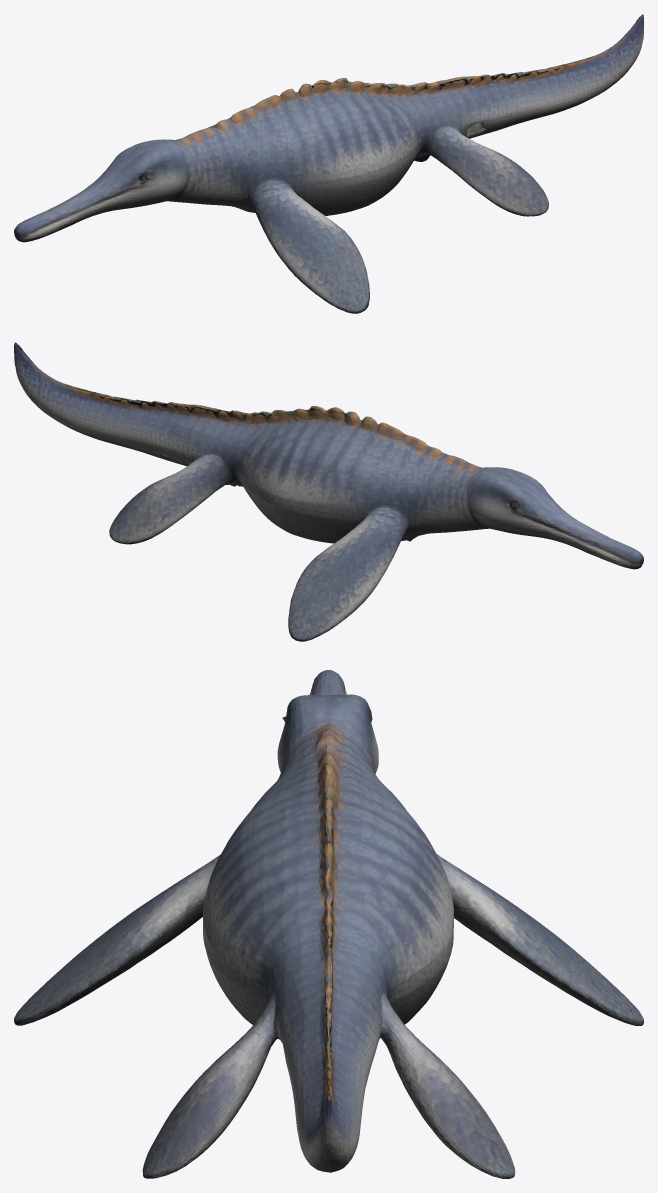
3 renders of one model, top to bottom at view 1: azimuth 30°, elevation 25°; view 2: azimuth 150°, elevation 25°; view 3: azimuth 270°, elevation 25°, orthographic. The views are drawn at different scales.
Parts seen in each view (by area): view 1: world; view 2: world; view 3: world.
Boxes of the visible parts, x1,y1,x2,y2 form: world: [14, 14, 643, 313]; world: [14, 342, 643, 641]; world: [14, 670, 643, 1178].
Size of the model in its own units: 1 by 0.2352 by 0.5028.
Materials: 5 (5 with a texture image).
